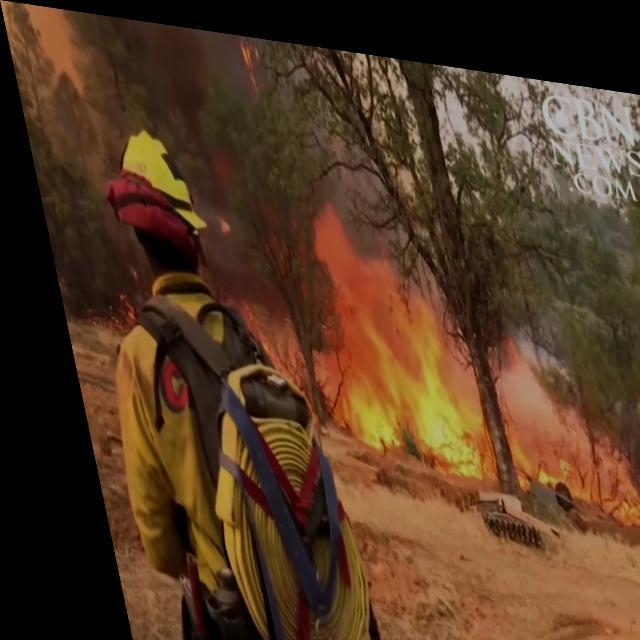Fire: (275, 178, 487, 495), (486, 395, 639, 526)
